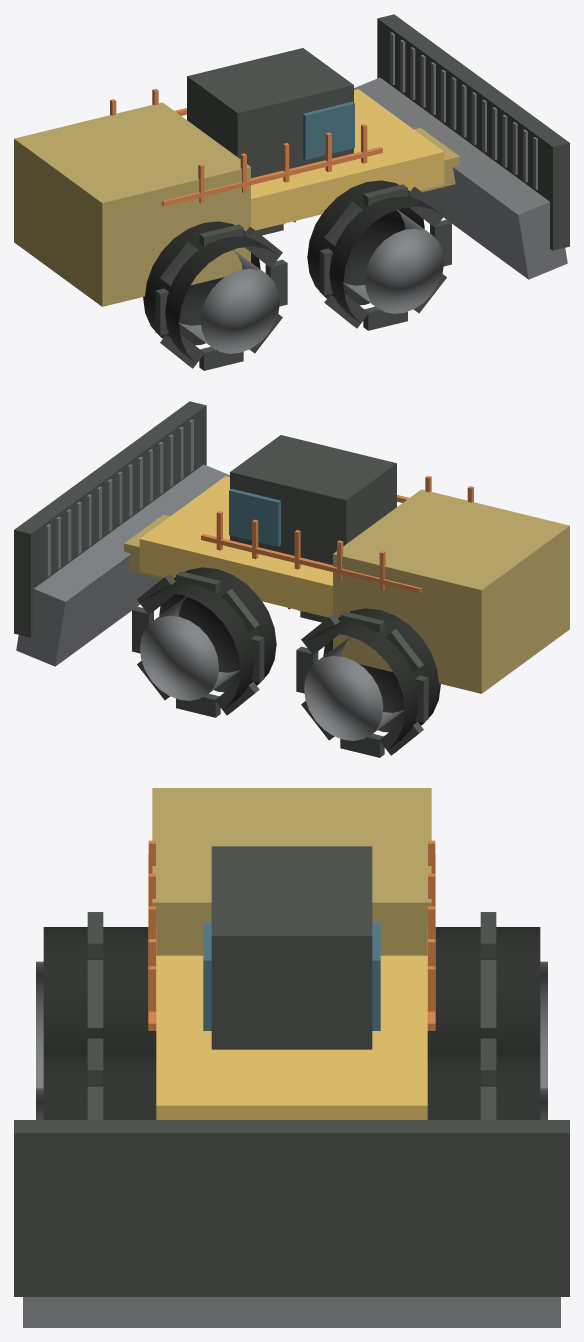
File: wiznos-webgl-compactor-v1.glb
3 views of the same model, one above another, from view 1: azimuth 30°, elevation 25°; view 2: azimuth 150°, elevation 25°; view 3: azimuth 270°, elevation 25° (orthographic). The views are drawn at different scales.
Parts seen in each view (by area): view 1: Wiznos Compactor; view 2: Wiznos Compactor; view 3: Wiznos Compactor.
Part boxes in pixels (x1,y1,x2,y2): Wiznos Compactor: (14,14,569,370); Wiznos Compactor: (14,401,569,757); Wiznos Compactor: (14,788,569,1327).
Bounding box in the file's own units: 6 × 2.85 × 4.3.
